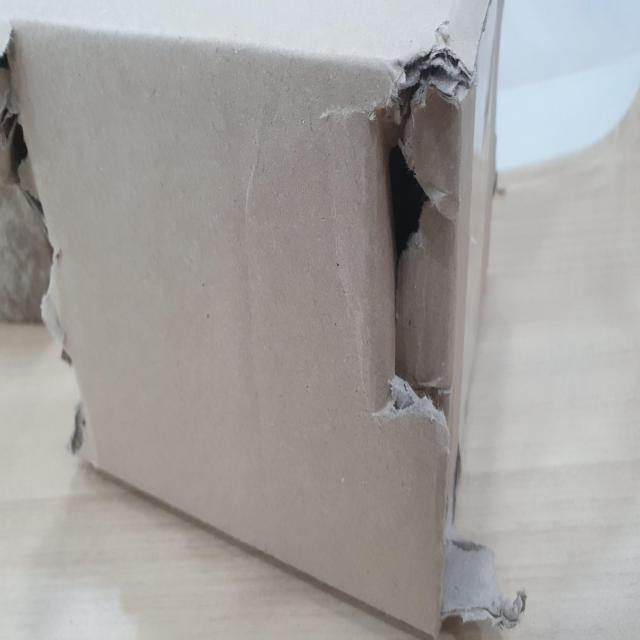damaged: (372, 20, 473, 457)
